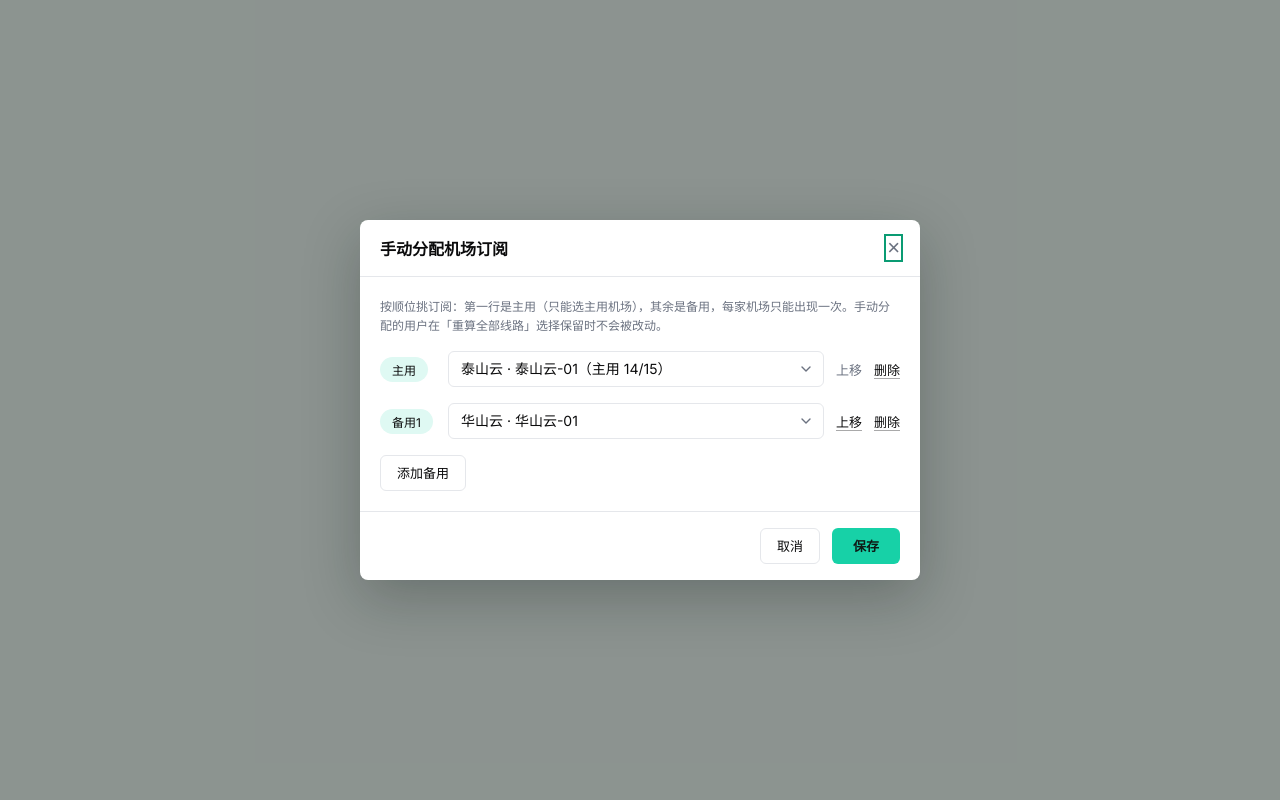
Test: FrontManualModal › 上移：备用与主用对调，主用行原先的仅备用机场不可选时提示重选
Click the button with aria-label "备用1上移": (849, 421) [836,412,862,431]
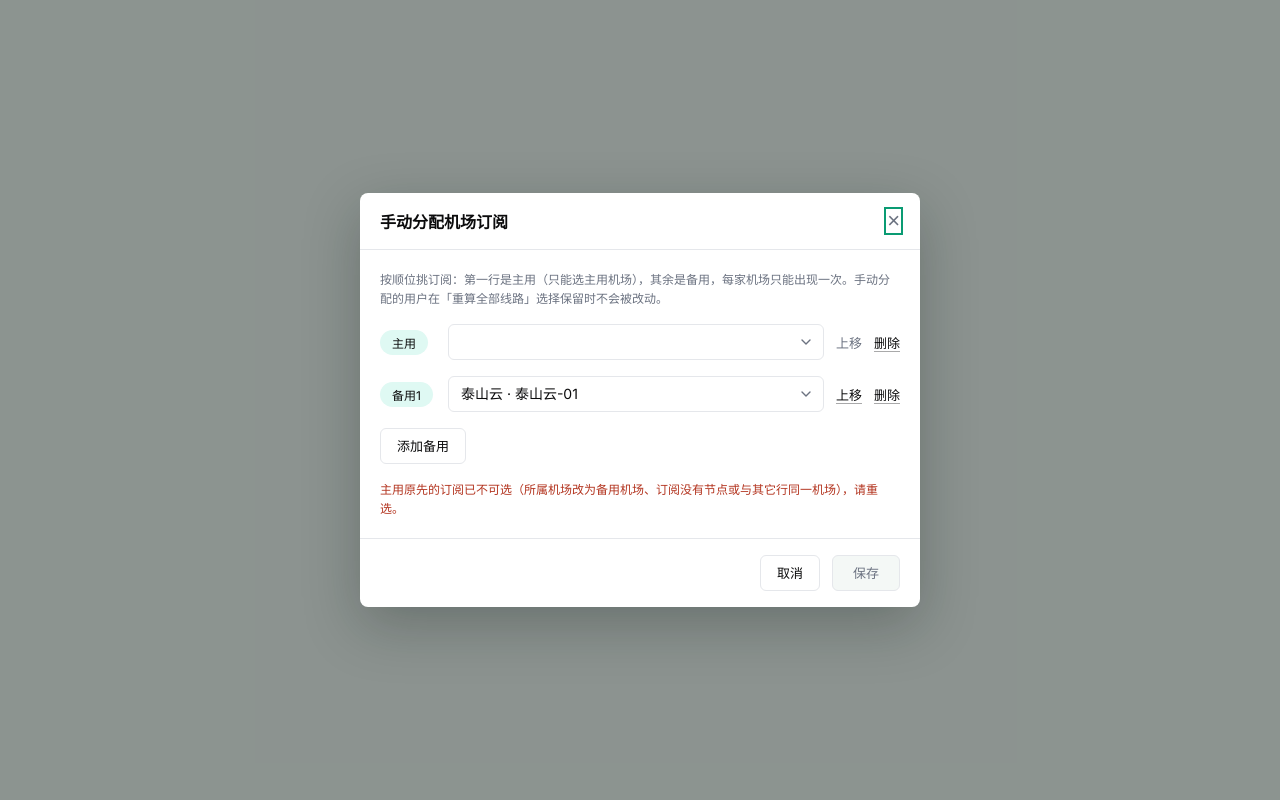
Check: the text "主用原先的订阅已不可选" is shown, box [380,482,878,516]
Check: the button with class "admin-btn" is disabled, box [832,555,900,591]
